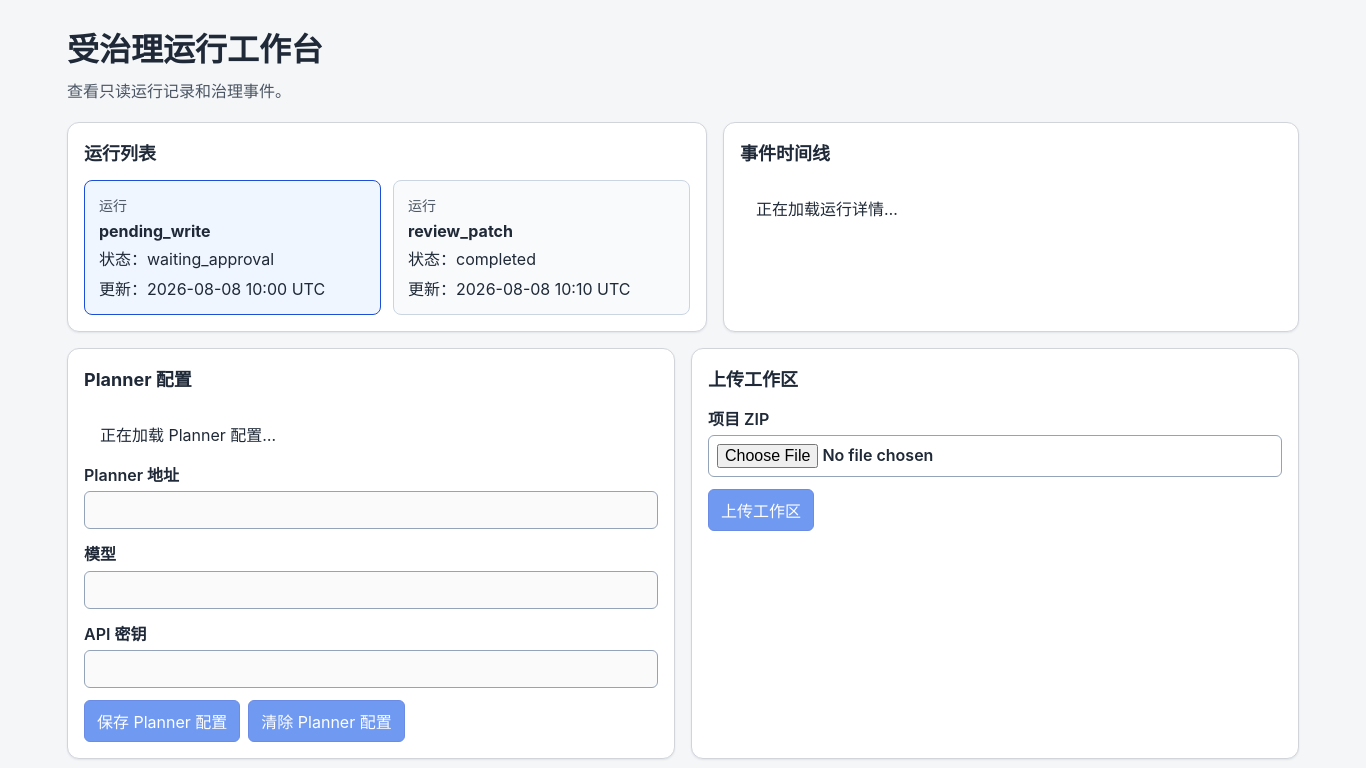
Scenario: App › keeps the selected detail when requests resolve out of order
The image size is (1366, 768).
Step 1. Click the button "运行 review_patch 状态：completed 更新：2026-08-08 10:10 UTC" → [460, 231], box left=393, top=180, right=690, bottom=315
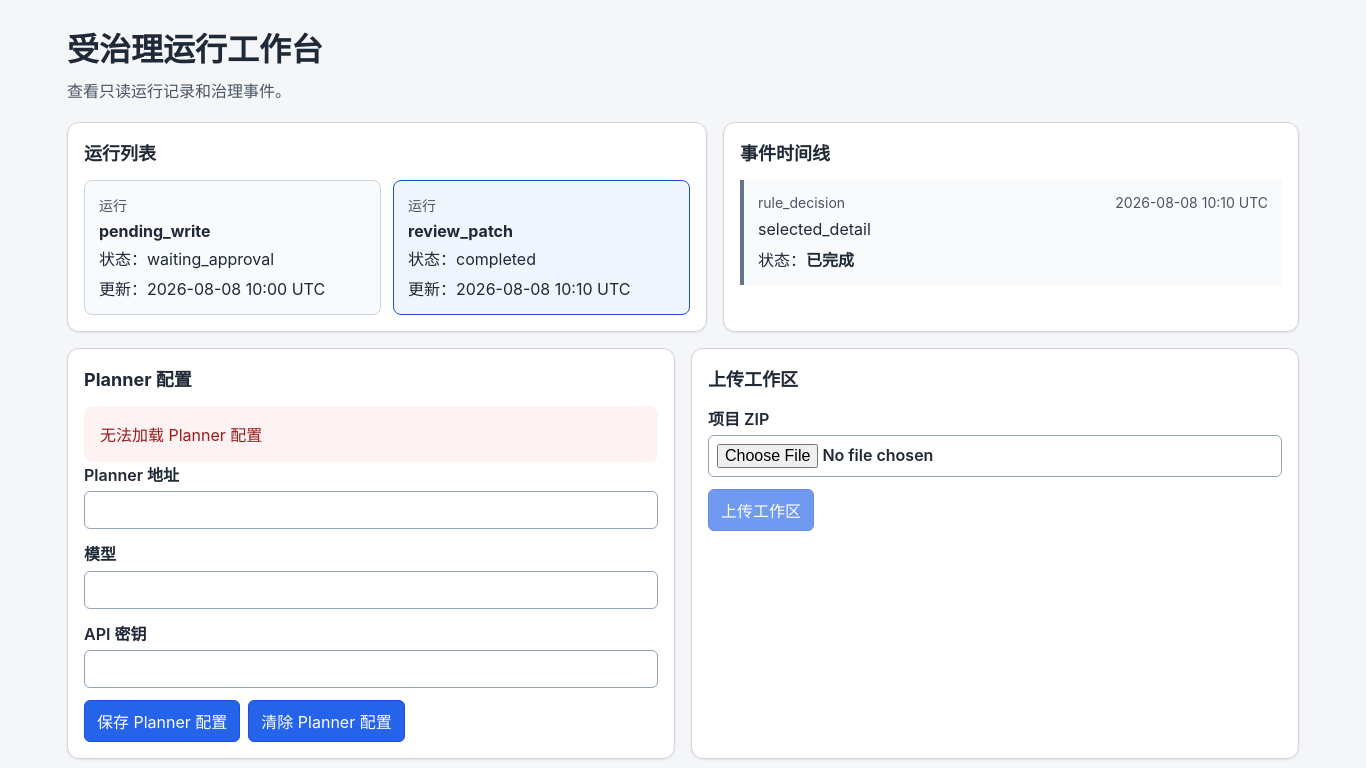
expect the text "selected_detail" is shown: met, box left=758, top=219, right=871, bottom=239
